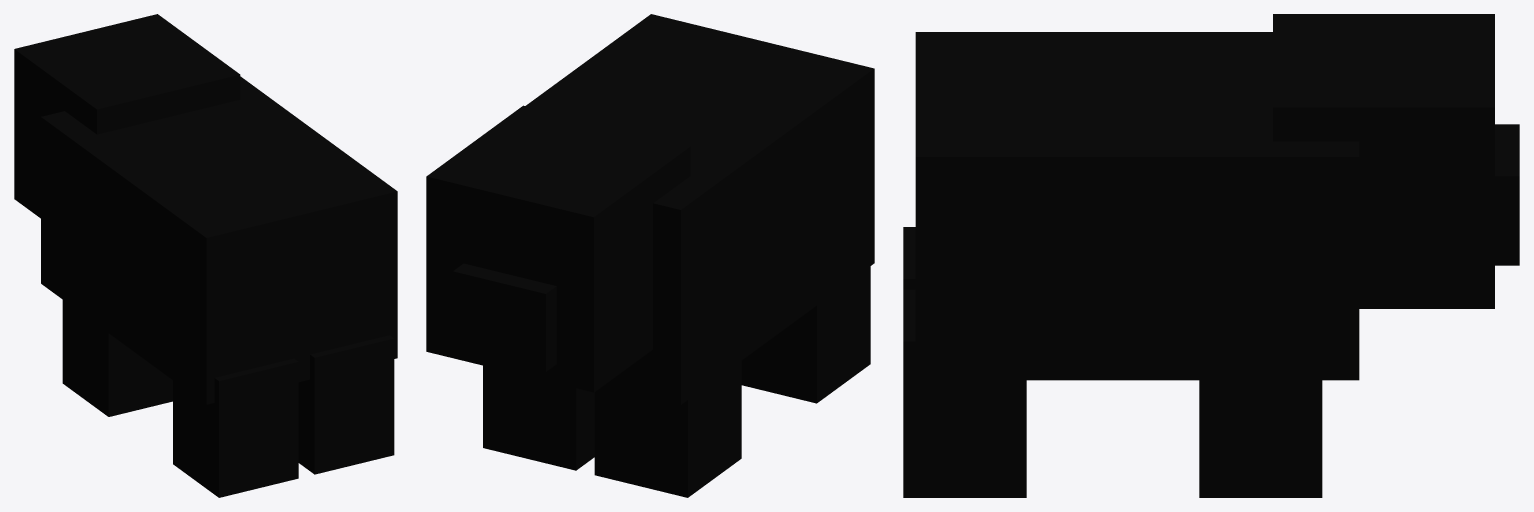
Rendered from cold_pig_saddle.gltf.
The picture shows the model from 3 angles, left to right: view 1: azimuth 30°, elevation 25°; view 2: azimuth 150°, elevation 25°; view 3: azimuth 270°, elevation 25°; orthographic projection. The views are drawn at different scales.
Visible parts, largest first — view 1: body, head, leg2, leg1, leg4; view 2: body, head (×2), leg4, leg2, leg3; view 3: body, head (×2), leg1, leg3, leg2.
Boxes of the visible parts, left/top/right/bottom form: body: left=41, top=76, right=397, bottom=404; head: left=14, top=14, right=240, bottom=218; leg2: left=173, top=358, right=298, bottom=497; leg1: left=298, top=335, right=394, bottom=474; leg4: left=62, top=300, right=172, bottom=416; body: left=525, top=14, right=874, bottom=404; head (×2): left=426, top=105, right=690, bottom=392; leg4: left=594, top=361, right=741, bottom=497; leg2: left=741, top=266, right=870, bottom=403; leg3: left=483, top=365, right=594, bottom=470; body: left=915, top=32, right=1359, bottom=380; head (×2): left=1273, top=14, right=1519, bottom=308; leg1: left=903, top=289, right=1026, bottom=497; leg3: left=1199, top=380, right=1322, bottom=497; leg2: left=903, top=227, right=915, bottom=289.
Size of the model in its own units: 0.75 by 1.06 by 1.56.
Materials: 1 (1 with a texture image).
